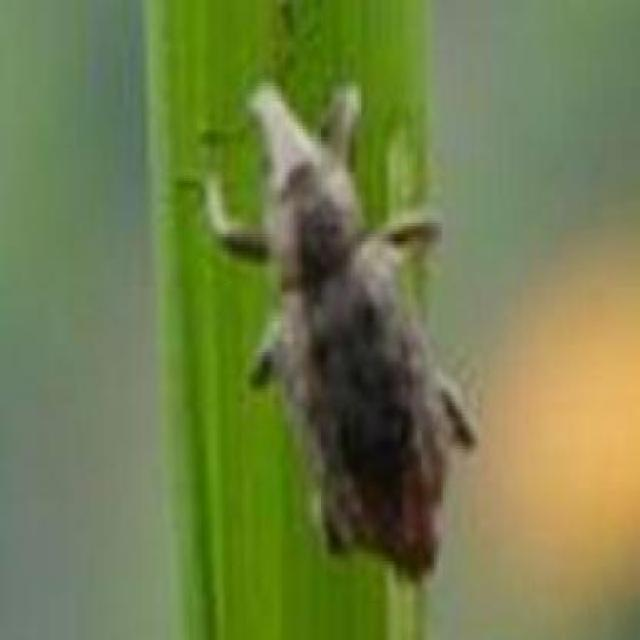rice-bug: (246, 78, 477, 578)
